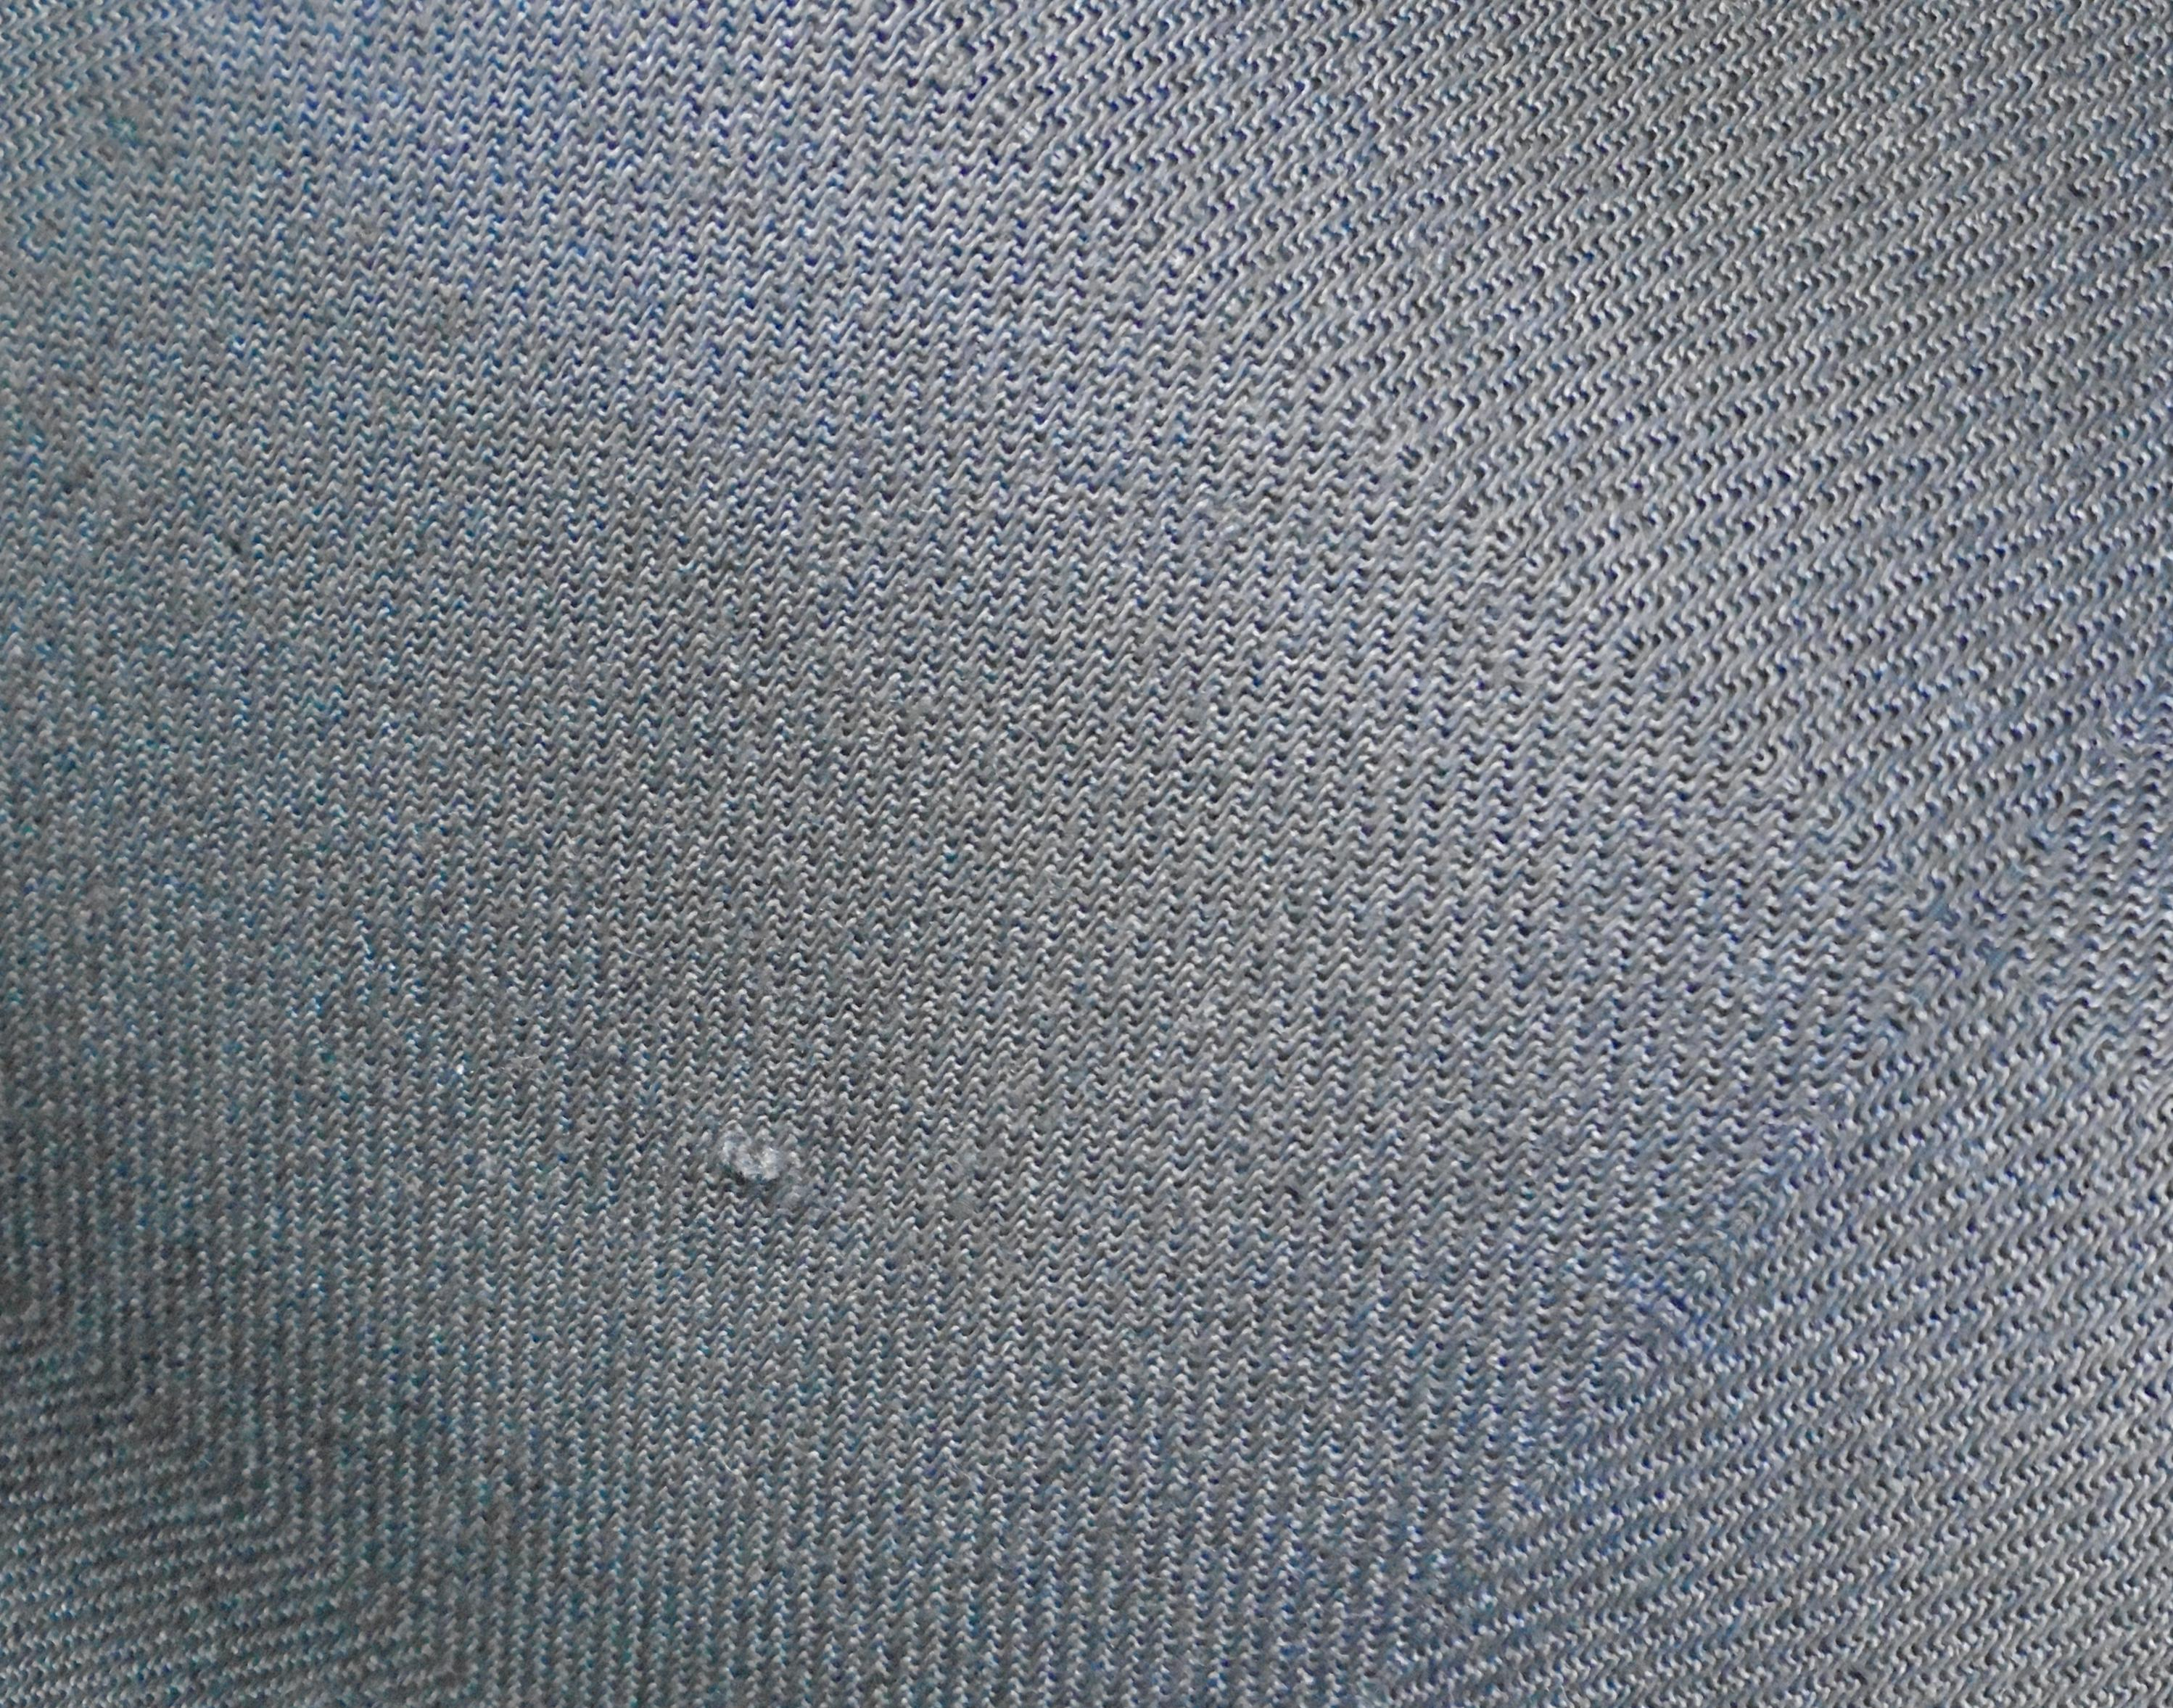knot: (679, 1110, 822, 1216)
